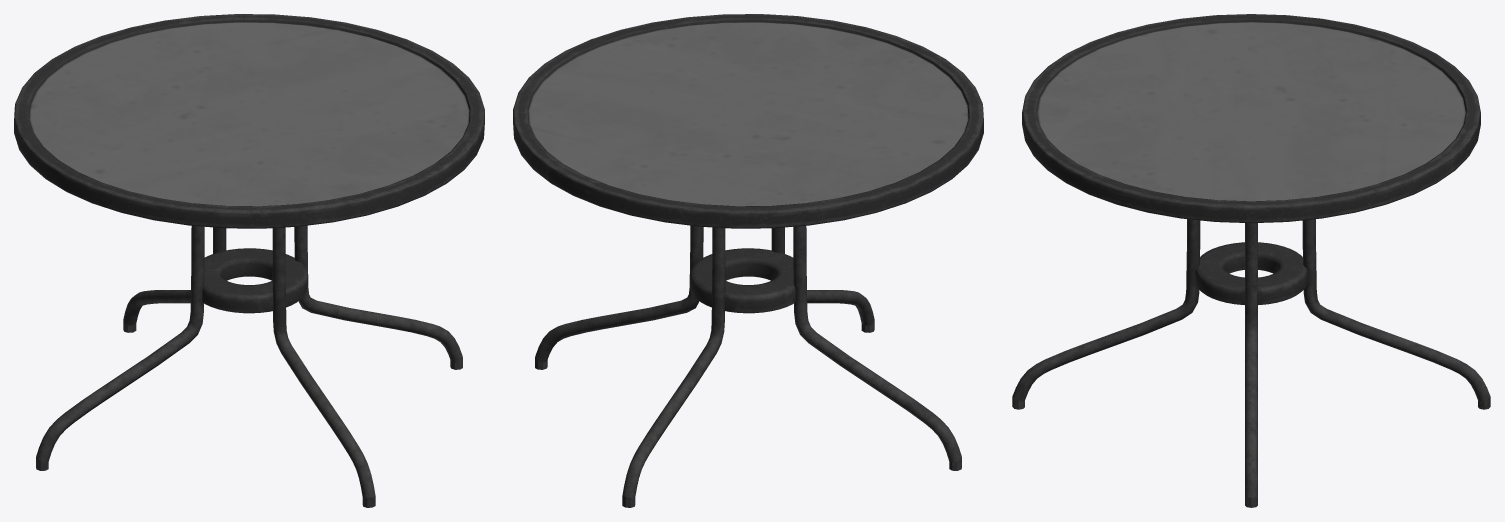
Rendered from SM_Table.fbx.
3 views of the same model, side by side, from view 1: azimuth 30°, elevation 25°; view 2: azimuth 150°, elevation 25°; view 3: azimuth 270°, elevation 25° (orthographic). The views are drawn at different scales.
Parts seen in each view (by area): view 1: SM_Table_LOD0; view 2: SM_Table_LOD0; view 3: SM_Table_LOD0.
Part boxes in pixels (box(x1,y1,x2,y2)): SM_Table_LOD0: box(14, 14, 484, 507); SM_Table_LOD0: box(513, 14, 983, 507); SM_Table_LOD0: box(1012, 14, 1490, 507).
Size of the model in its own units: 119 by 119 by 81.51.
Materials: 1 (1 with a texture image).
